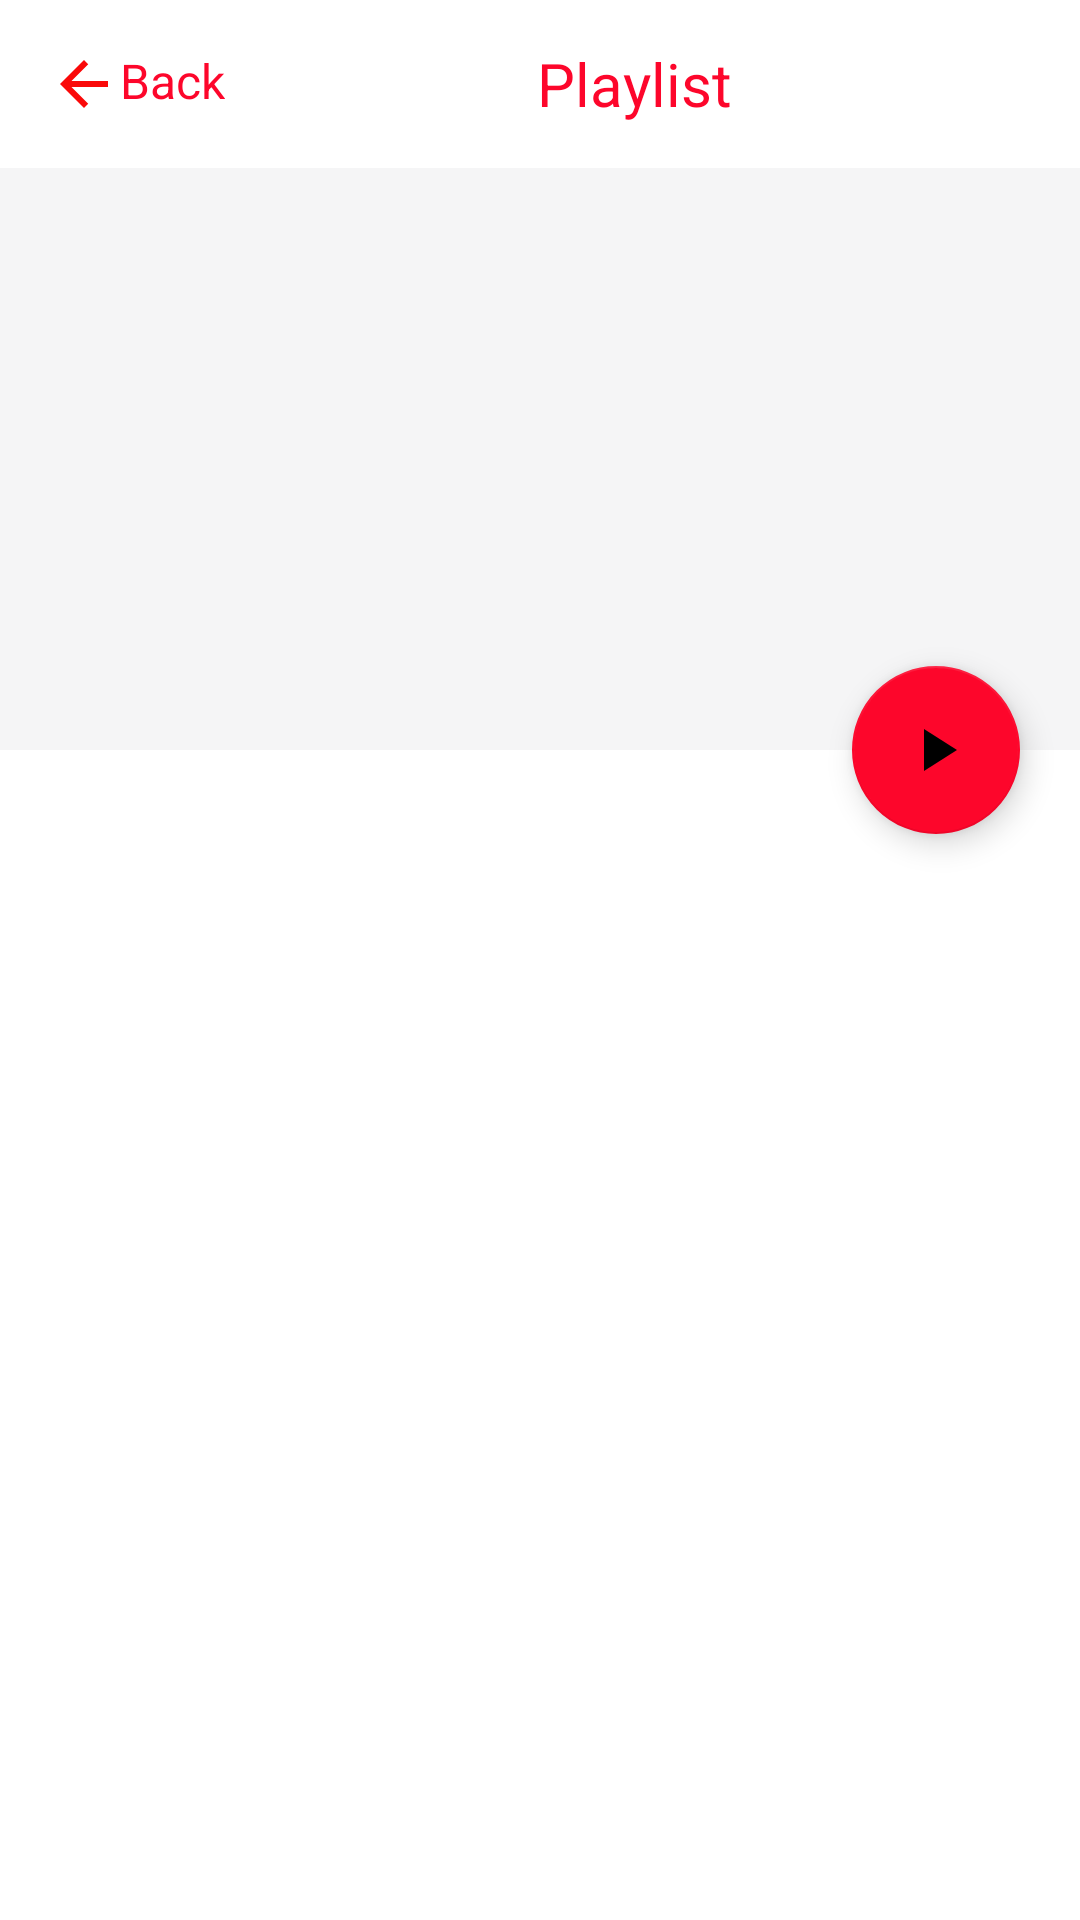

Where to tap for icons on this 1080×1920 app screen, as point (x, y):
play arrow: point (936, 750)
